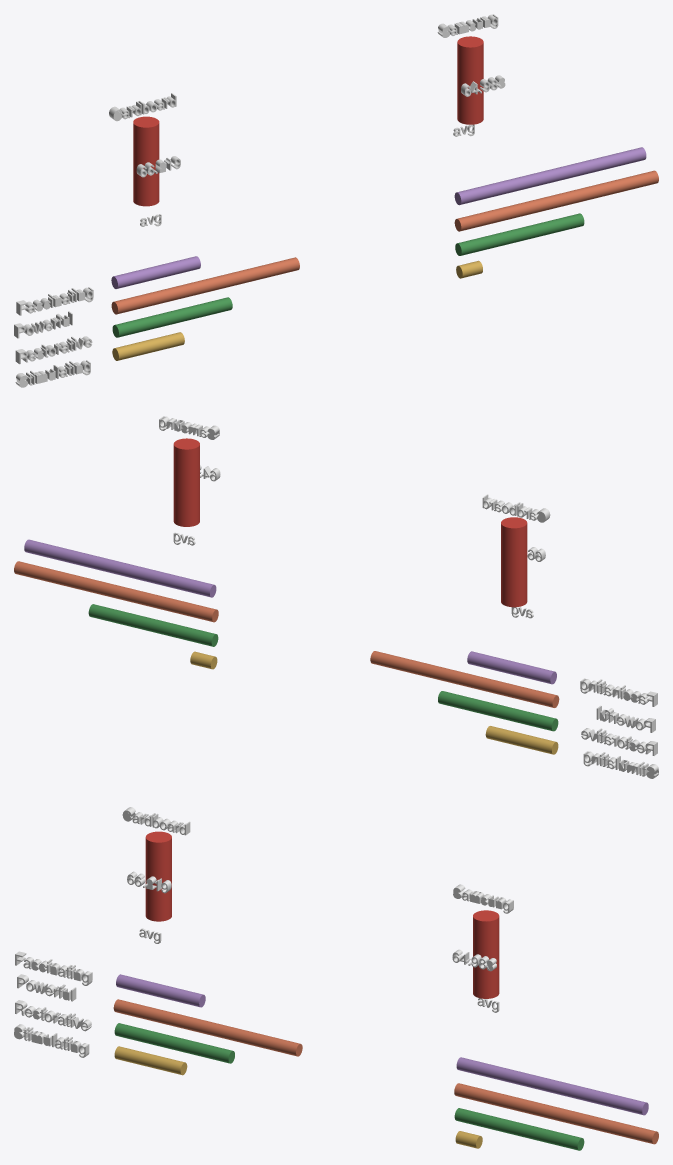
Rendered from neworleans.fbx.
3 views of the same model, one above another, from view 1: azimuth 30°, elevation 25°; view 2: azimuth 150°, elevation 25°; view 3: azimuth 330°, elevation 25° (orthographic).
Visible parts, largest first — view 1: Cylinder_13, Cylinder_12, Cylinder_7, Cylinder, Cylinder_1, Cylinder_11, Cylinder_8, Cylinder_6, Cylinder_9; view 2: Cylinder_13, Cylinder_12, Cylinder_7, Cylinder, Cylinder_1, Cylinder_11, Cylinder_8, Cylinder_6, Cylinder_9; view 3: Cylinder_13, Cylinder_12, Cylinder_7, Cylinder, Cylinder_1, Cylinder_11, Cylinder_8, Cylinder_6, Cylinder_9.
Part boxes in pixels (box(x1,y1,x2,y2)): Cylinder_13: box(454, 170, 658, 231); Cylinder_12: box(454, 147, 646, 205); Cylinder_7: box(111, 257, 299, 314); Cylinder: box(133, 116, 159, 206); Cylinder_1: box(457, 36, 483, 124); Cylinder_11: box(455, 213, 584, 255); Cylinder_8: box(112, 297, 232, 337); Cylinder_6: box(111, 256, 200, 288); Cylinder_9: box(112, 332, 184, 360); Cylinder_13: box(14, 561, 218, 622); Cylinder_12: box(24, 539, 216, 597); Cylinder_7: box(370, 651, 559, 707); Cylinder: box(501, 517, 527, 607); Cylinder_1: box(173, 438, 199, 526); Cylinder_11: box(88, 604, 218, 646); Cylinder_8: box(438, 691, 558, 731); Cylinder_6: box(467, 651, 556, 684); Cylinder_9: box(485, 726, 558, 754); Cylinder_13: box(454, 1083, 658, 1144); Cylinder_12: box(456, 1057, 648, 1115); Cylinder_7: box(113, 999, 302, 1056); Cylinder: box(145, 831, 171, 921); Cylinder_1: box(473, 910, 499, 998); Cylinder_11: box(454, 1108, 584, 1150); Cylinder_8: box(114, 1023, 234, 1063); Cylinder_6: box(116, 974, 205, 1007); Cylinder_9: box(114, 1046, 187, 1075).
Bounding box in the file's own units: 562 × 213 × 31.39.
